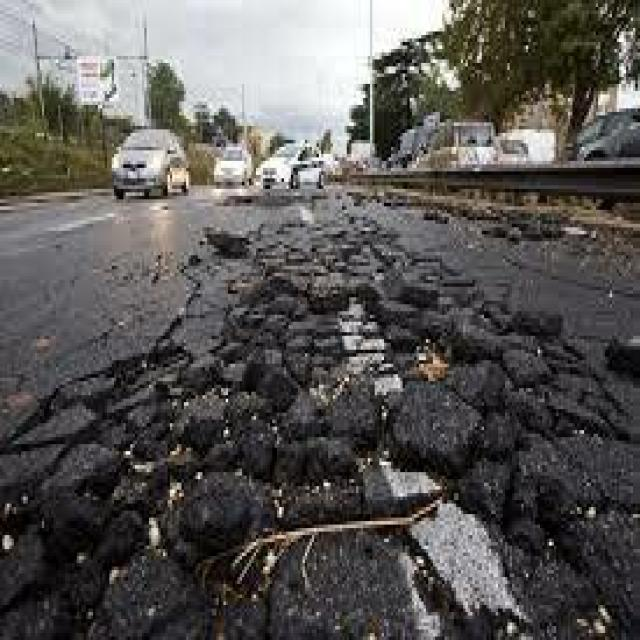Pothole: (49, 213, 640, 622)
